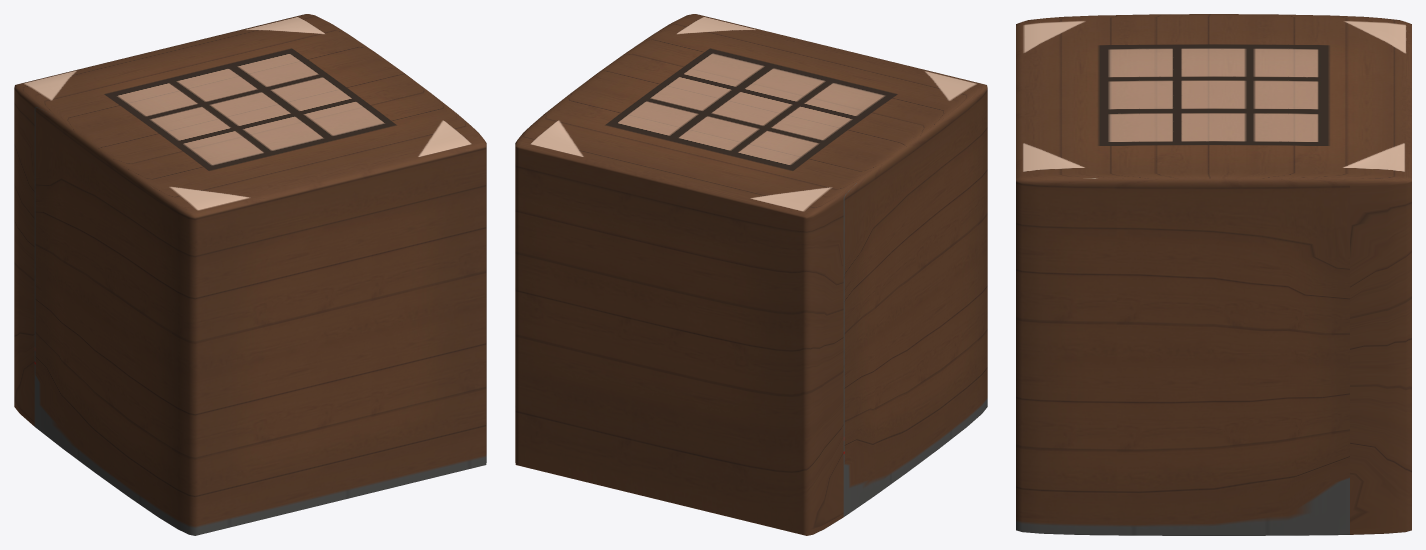
Rendered from craft.fbx.
3 renders of one model, left to right at view 1: azimuth 30°, elevation 25°; view 2: azimuth 150°, elevation 25°; view 3: azimuth 270°, elevation 25°, orthographic. The views are drawn at different scales.
Visible parts, largest first — view 1: pCube1; view 2: pCube1; view 3: pCube1.
Boxes of the visible parts, x1,y1,x2,y2 form: pCube1: (14, 14, 486, 535); pCube1: (515, 14, 987, 535); pCube1: (1016, 14, 1411, 535).
Size of the model in its own units: 0.9972 by 0.999 by 1.
